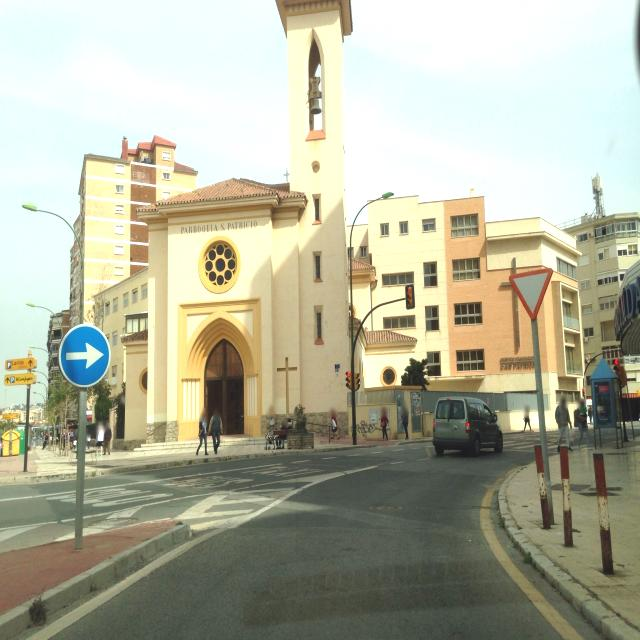car: (432, 396, 504, 457)
